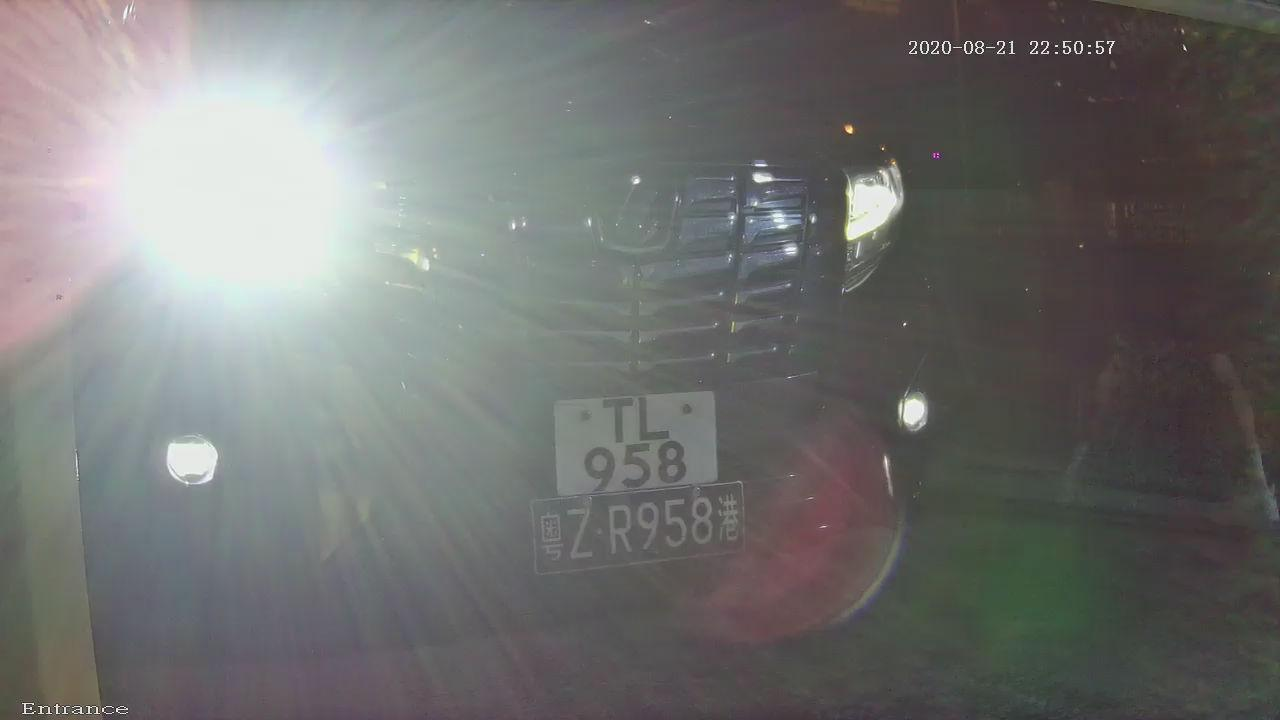Car: (1, 13, 1035, 701)
License Plate: (521, 367, 738, 528)
